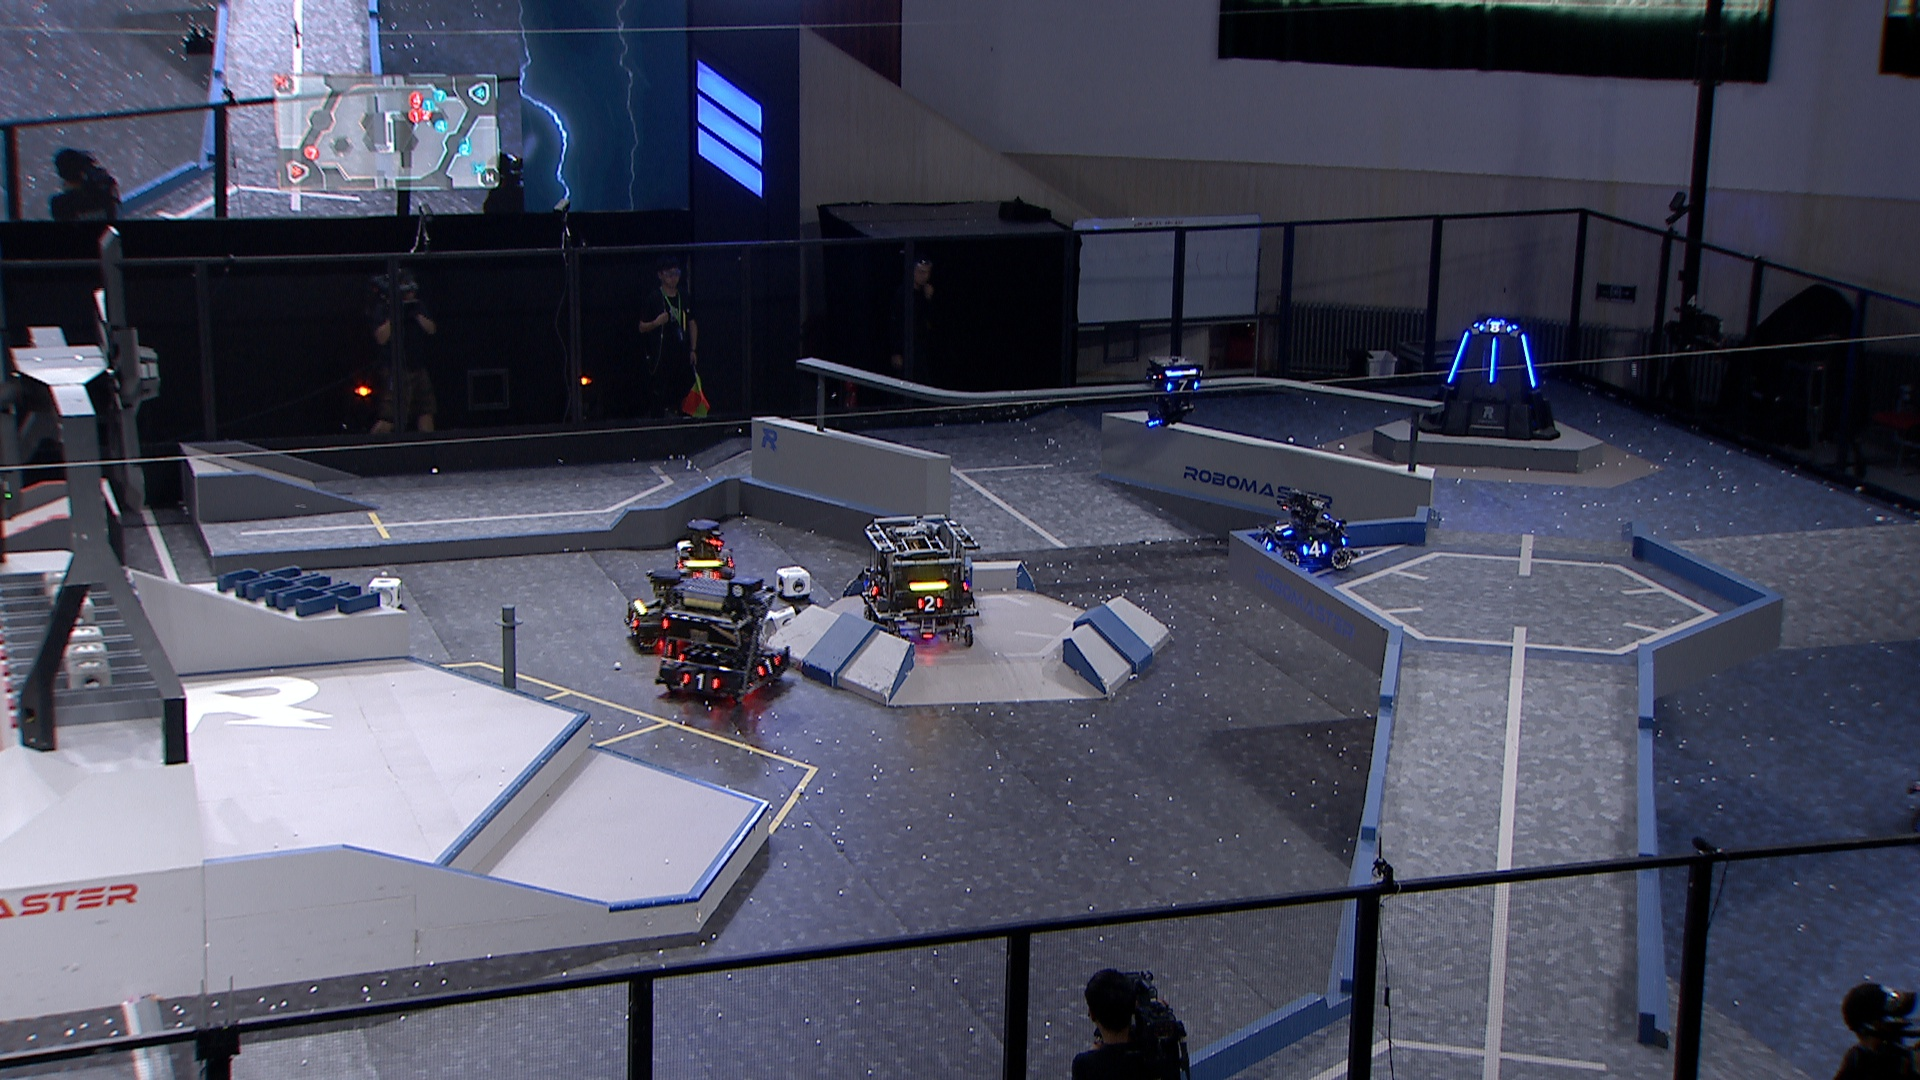armor: (1444, 328, 1472, 386), (1519, 332, 1539, 389), (680, 671, 721, 692), (1166, 377, 1200, 396), (913, 593, 944, 613), (756, 655, 783, 678), (1476, 319, 1513, 335), (1302, 538, 1329, 559), (1487, 338, 1499, 386), (1269, 520, 1294, 537), (624, 611, 642, 632), (1255, 534, 1276, 553), (692, 567, 719, 580), (866, 580, 882, 599)
base: (1422, 316, 1563, 442)
car: (651, 575, 793, 708), (858, 512, 981, 647), (1251, 487, 1354, 574), (621, 562, 713, 647), (671, 520, 737, 588)
watcher: (1141, 353, 1204, 429)
